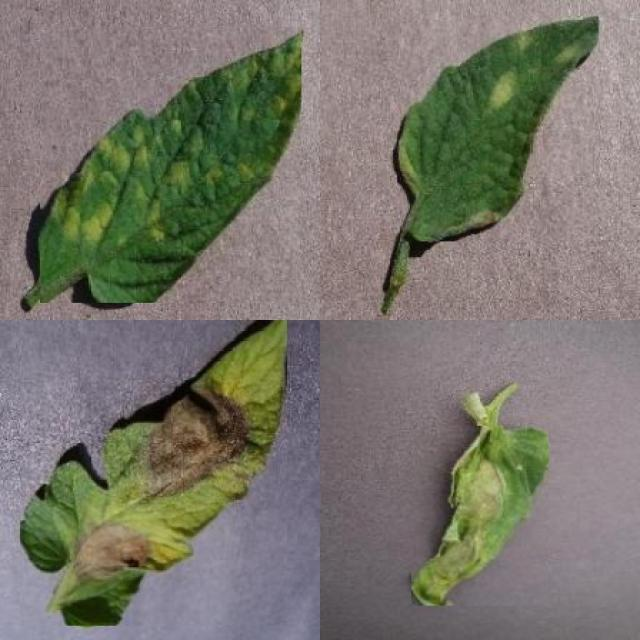Late Blight: (20, 320, 287, 626), (412, 426, 548, 606)
Leaf Mold: (40, 27, 301, 303), (397, 16, 599, 241)
